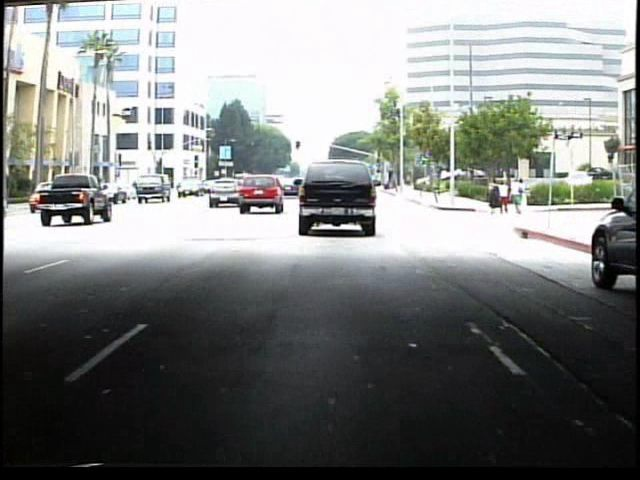person: (512, 177, 527, 217), (486, 178, 501, 216), (499, 179, 512, 216)
